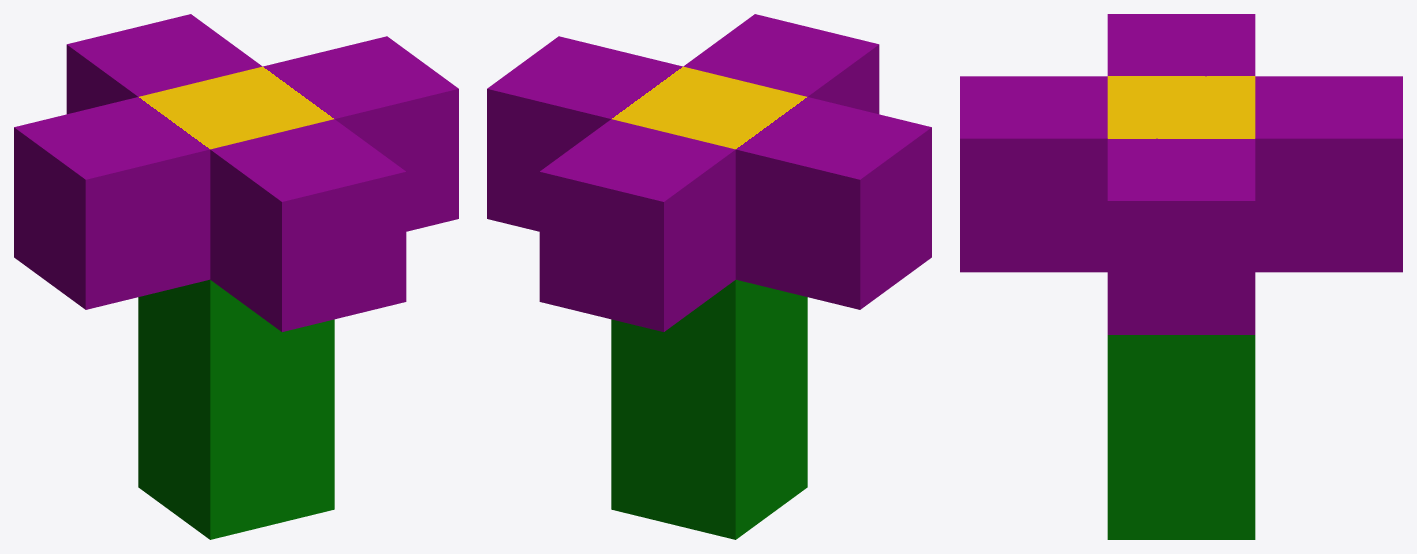
File: Flor 4.fbx
3 views of the same model, side by side, from view 1: azimuth 30°, elevation 25°; view 2: azimuth 150°, elevation 25°; view 3: azimuth 270°, elevation 25° (orthographic). The views are drawn at different scales.
Parts seen in each view (by area): view 1: Flor_4:Mesh; view 2: Flor_4:Mesh; view 3: Flor_4:Mesh.
Boxes of the visible parts, left/top/right/bottom form: Flor_4:Mesh: left=14, top=14, right=458, bottom=539; Flor_4:Mesh: left=487, top=14, right=931, bottom=539; Flor_4:Mesh: left=960, top=14, right=1402, bottom=539.
Size of the model in its own units: 0.3 by 0.3 by 0.3.
